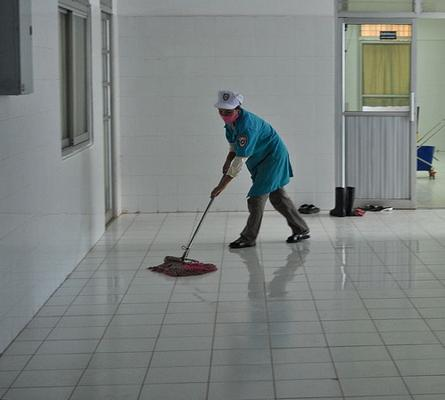person: (210, 91, 312, 249)
